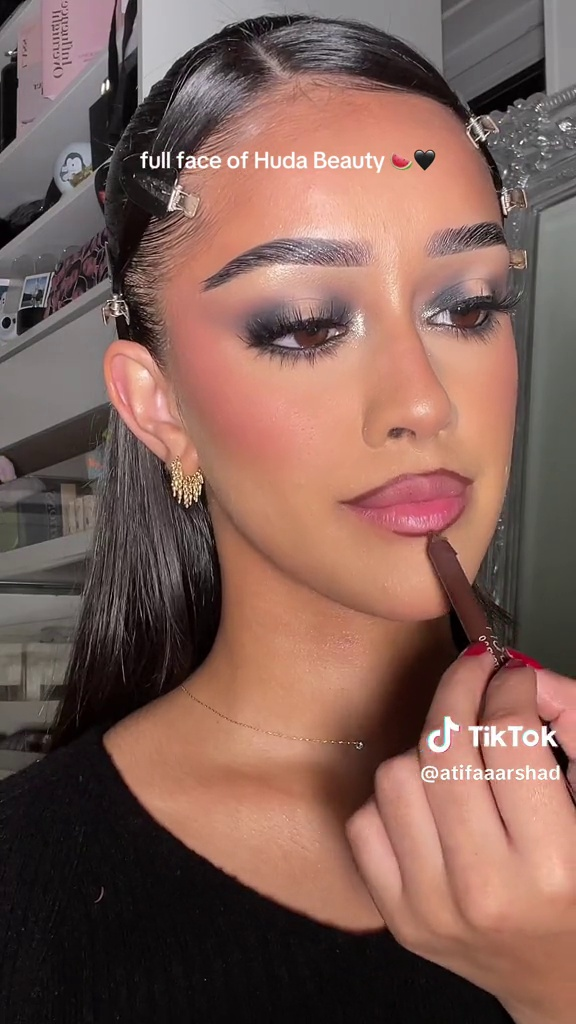train' :'yolo_data/train/images',: (410, 524, 529, 689)
